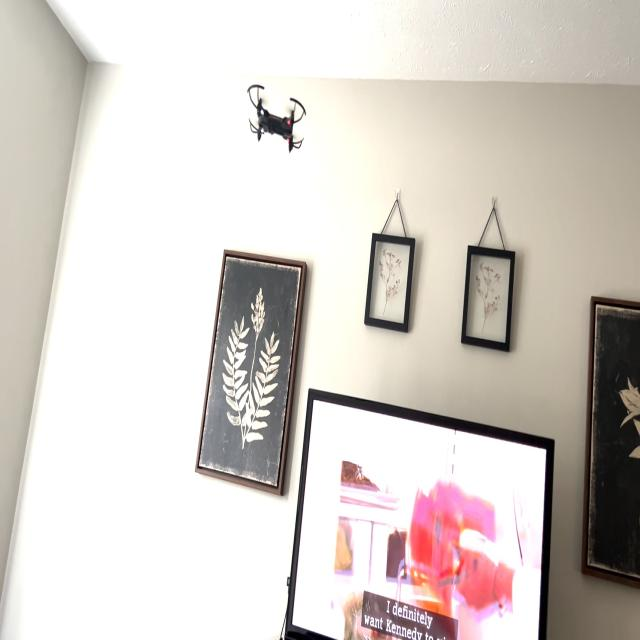drone: (238, 67, 316, 175)
